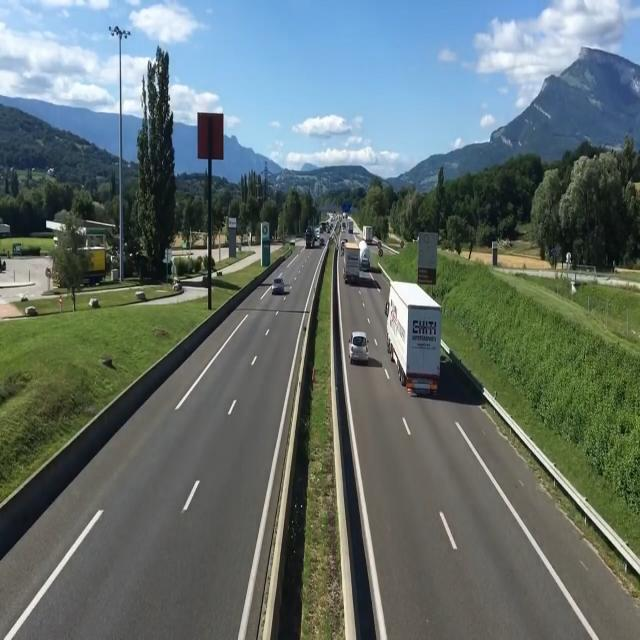car: (346, 326, 371, 369), (269, 277, 285, 299)
truck: (386, 278, 437, 386), (343, 241, 361, 287)
